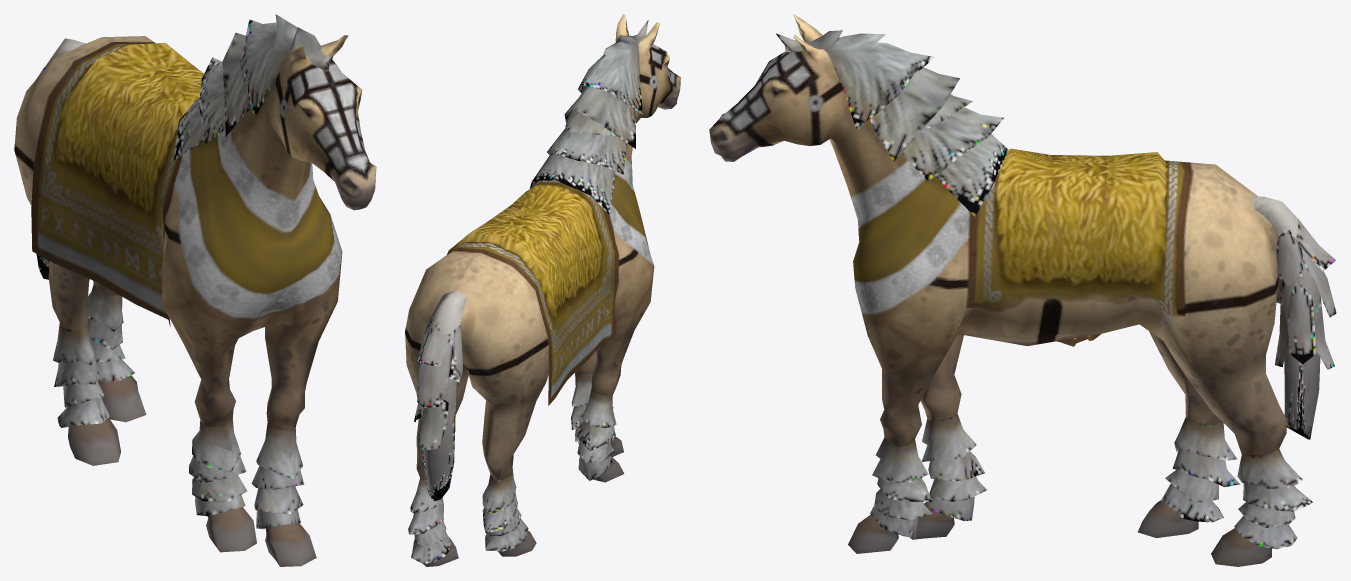
The model's file is body-championcavalry.glb.
3 renders of one model, left to right at view 1: azimuth 30°, elevation 25°; view 2: azimuth 150°, elevation 25°; view 3: azimuth 270°, elevation 25°, orthographic. The views are drawn at different scales.
Bounding box in the file's own units: 0.805 × 2.51 × 2.75.
Materials: 1 (1 with a texture image).
